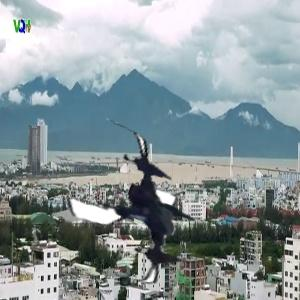drone: (50, 126, 209, 285)
